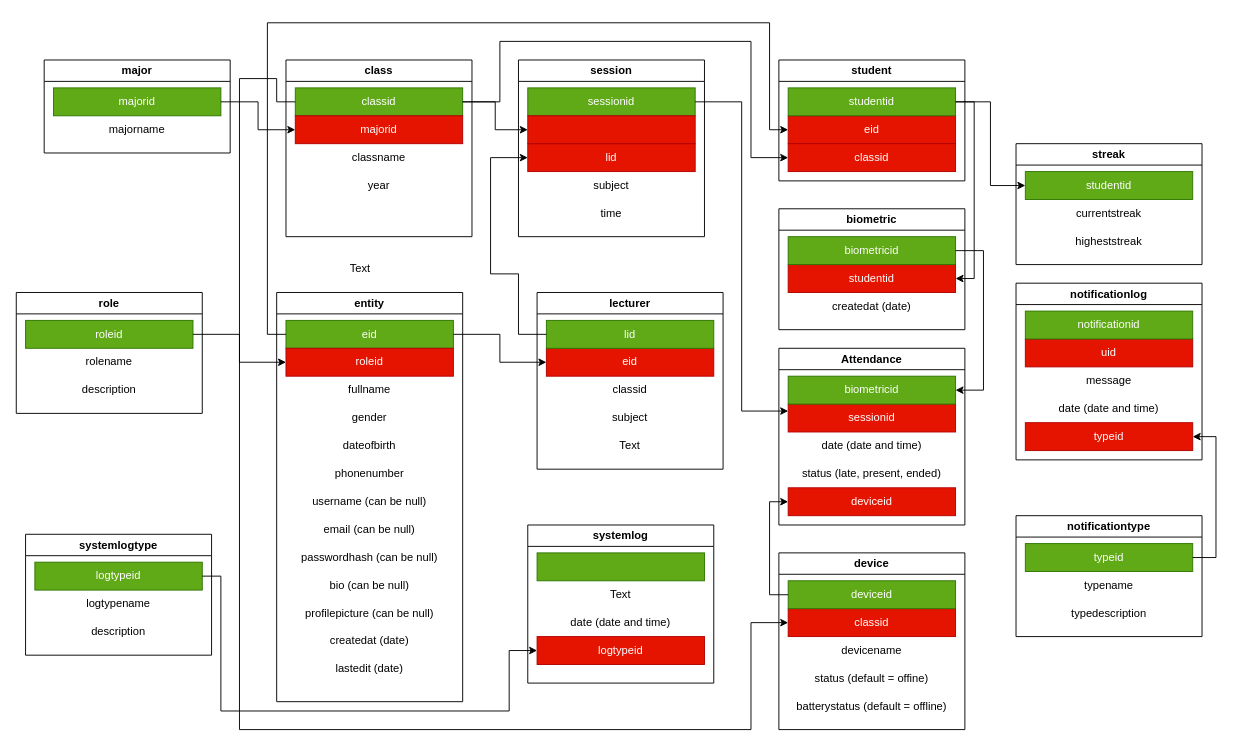
Some shapes in this 1240 by 753 pixel diagram are drawn without their labels. Here are the shapes that lost their labels. From the top down, the centre of each, then its label:
At (x=611, y=129): "classid (not unique)".
At (x=620, y=566): "logid".
